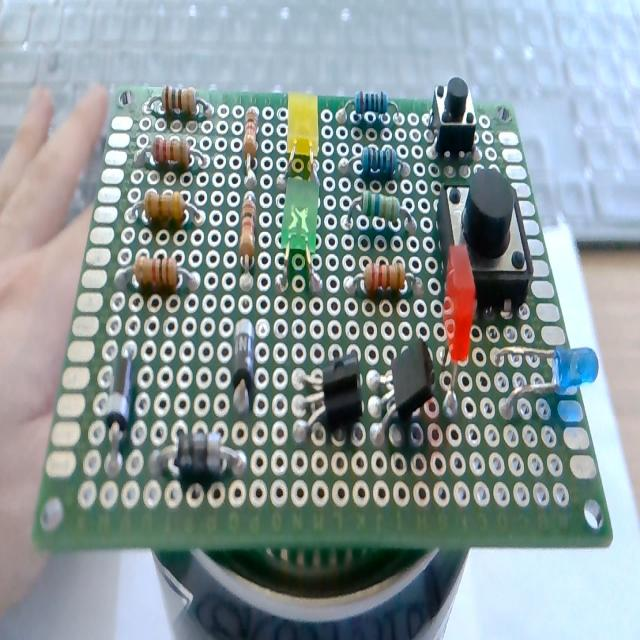diode: (102, 334, 150, 475), (152, 430, 254, 491), (232, 313, 258, 411)
led: (487, 343, 598, 408), (439, 246, 476, 412), (283, 176, 324, 292), (286, 87, 323, 181)
resistor: (114, 255, 212, 297), (334, 257, 422, 300), (344, 192, 420, 239), (128, 189, 201, 231), (334, 90, 404, 129), (332, 147, 410, 182), (142, 81, 217, 117), (136, 136, 206, 174), (236, 97, 259, 184), (241, 186, 261, 280)
switch: (433, 177, 537, 312), (427, 70, 486, 162)
transistor: (364, 344, 437, 461), (296, 353, 364, 440)
